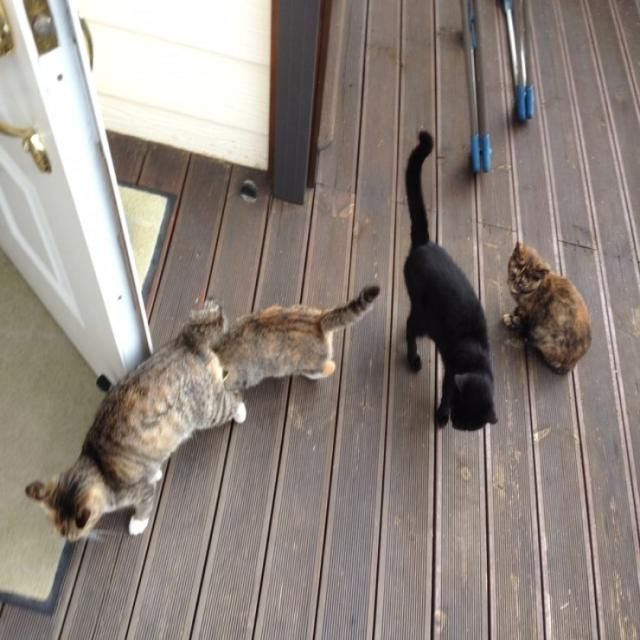cat: (39, 300, 231, 578), (381, 124, 503, 459), (236, 257, 380, 428), (503, 227, 588, 384)
